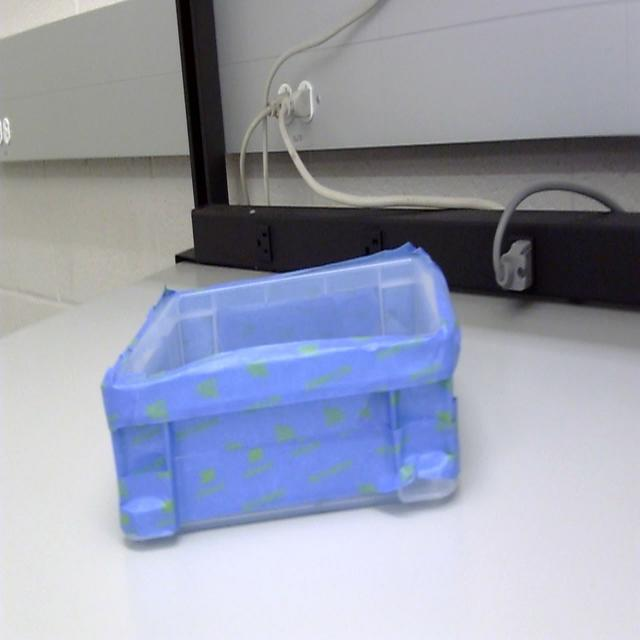bucket: (100, 246, 462, 552)
